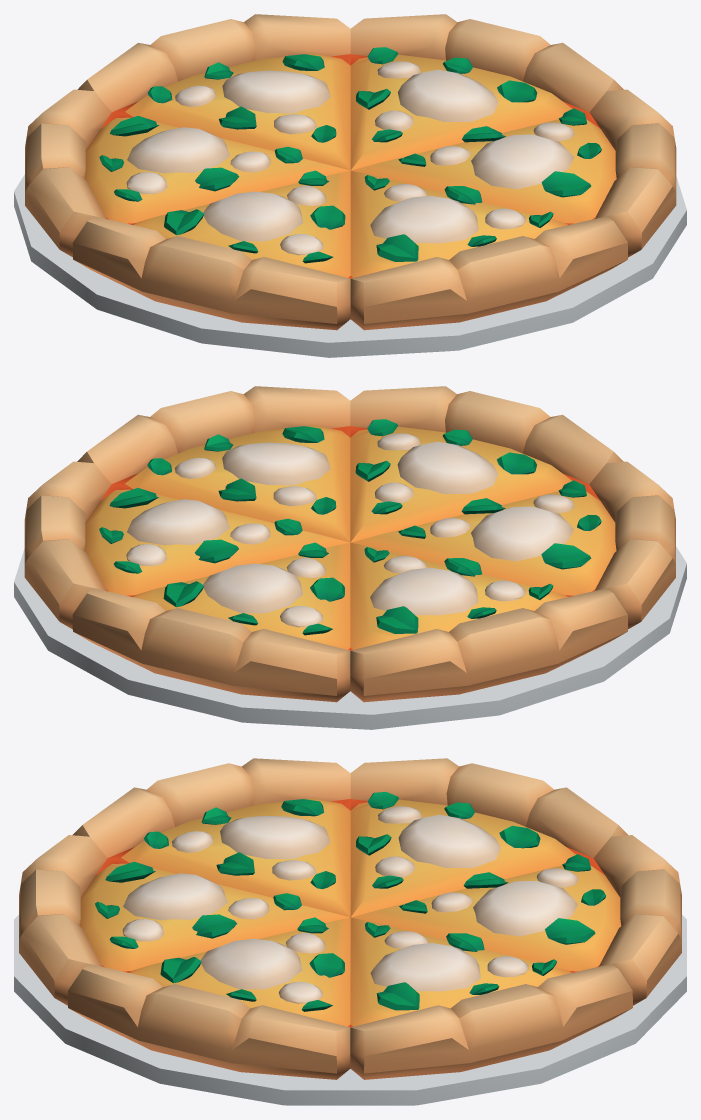
File: food_pizza_cheese_plated_slices.glb
3 renders of one model, top to bottom at view 1: azimuth 30°, elevation 25°; view 2: azimuth 150°, elevation 25°; view 3: azimuth 270°, elevation 25°, orthographic.
Visible parts, largest first — view 1: food_pizza_cheese_plated_slices; view 2: food_pizza_cheese_plated_slices; view 3: food_pizza_cheese_plated_slices.
Boxes of the visible parts, <box> form: food_pizza_cheese_plated_slices: <box>14,14,686,357</box>; food_pizza_cheese_plated_slices: <box>14,386,686,729</box>; food_pizza_cheese_plated_slices: <box>14,758,686,1105</box>.
Size of the model in its own units: 2 by 0.3 by 2.
Materials: 1 (1 with a texture image).
